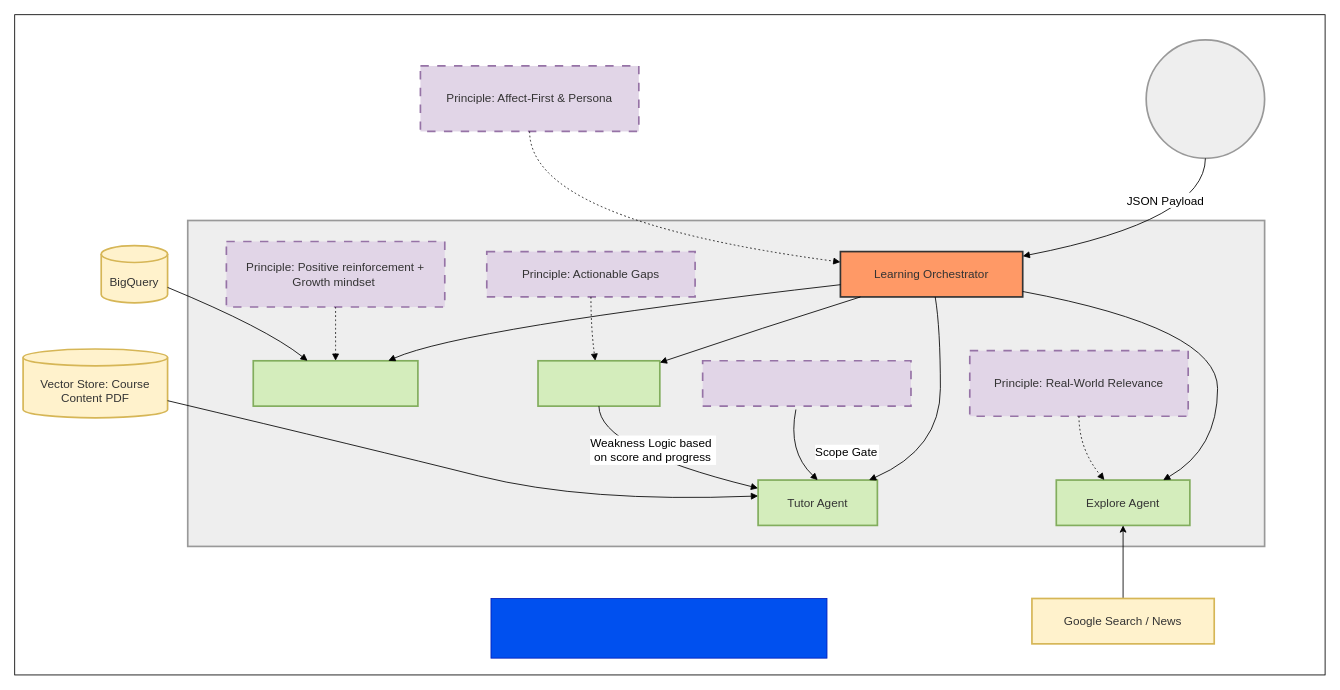
Image size: 1340x690. Some labels were removed from this diagram. Here are the shapes that lost their labels. From the top down, the centre of each, then its label:
At (x=1205, y=99): "Page 2 Dashboard".
At (x=335, y=383): "Performance Agent".
At (x=598, y=383): "Focus Agent".
At (x=806, y=383): "Principle: Socratic Method".
At (x=658, y=628): "The Multi-Agent System (Google ADK based)".
